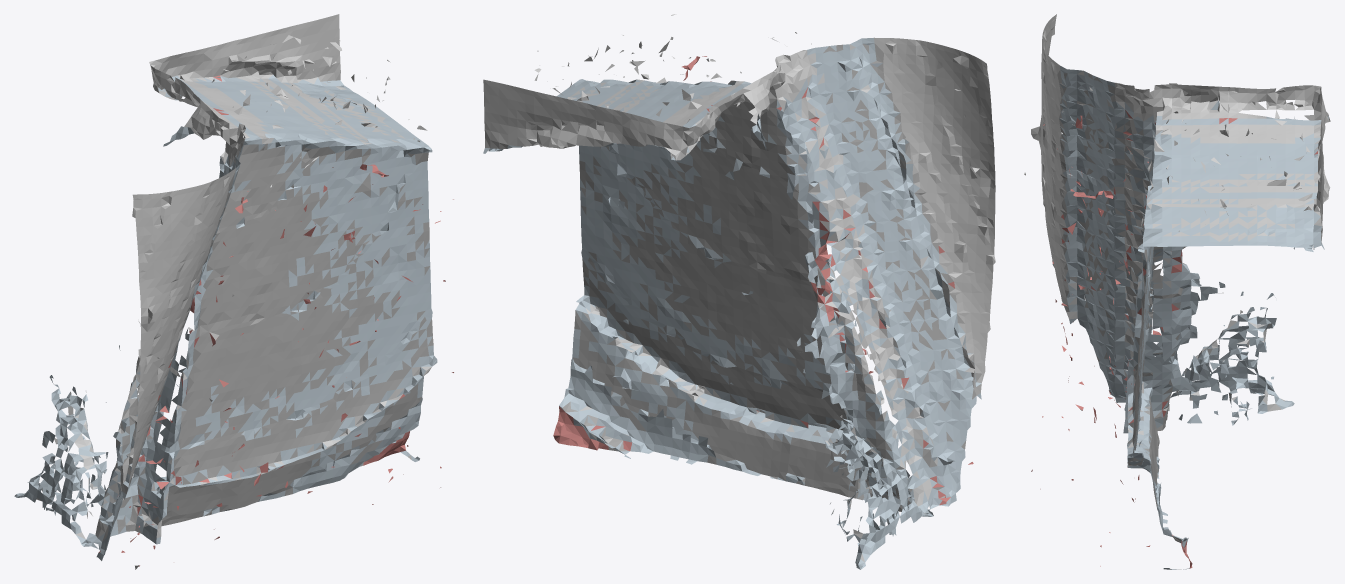
Rendered from R1-뜬면-1__nojudge_ALS_s0__before.glb.
3 renders of one model, left to right at view 1: azimuth 30°, elevation 25°; view 2: azimuth 150°, elevation 25°; view 3: azimuth 270°, elevation 25°, orthographic. The views are drawn at different scales.
Bounding box in the file's own units: 33.42 × 36.46 × 25.83.
